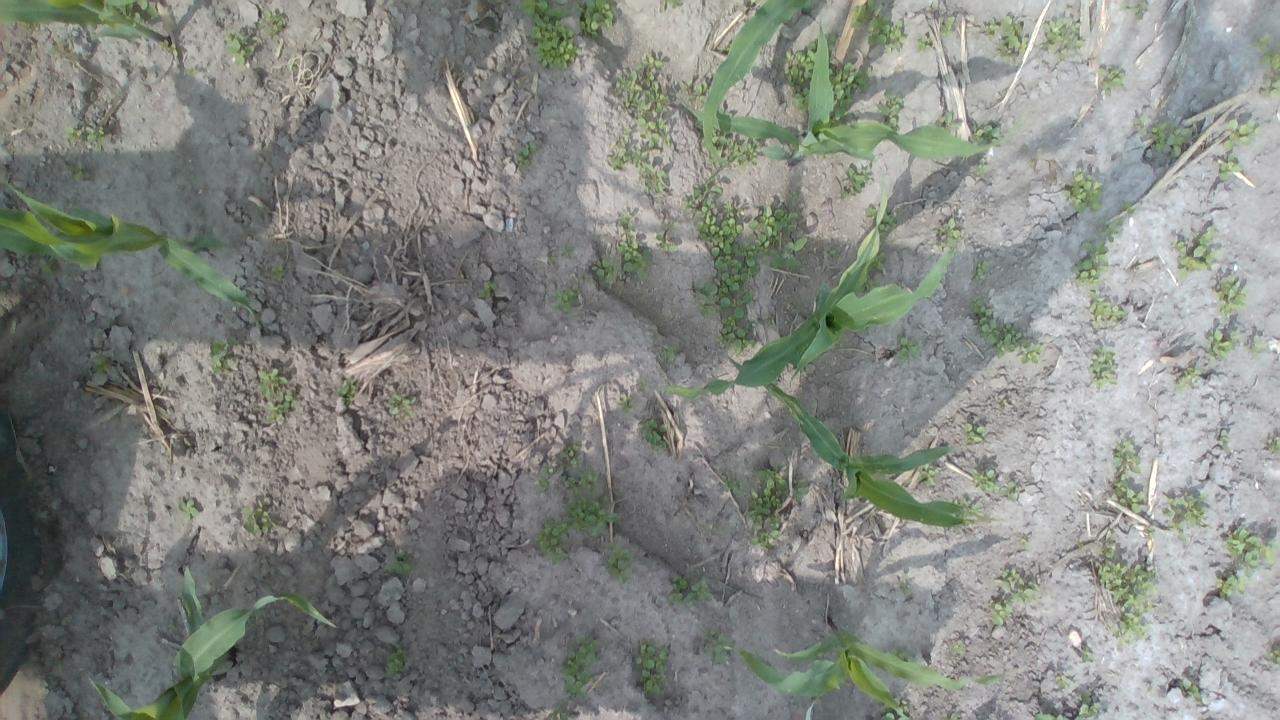Maize: (668, 222, 957, 398), (728, 353, 988, 529), (690, 28, 990, 164), (0, 176, 265, 324), (89, 569, 337, 720), (740, 616, 1004, 720), (704, 0, 812, 165), (0, 0, 170, 45)
Weeds: (607, 50, 672, 192), (695, 200, 759, 320), (534, 496, 622, 566), (1094, 559, 1156, 644), (512, 0, 584, 71), (746, 464, 789, 550), (752, 205, 808, 271), (972, 294, 1023, 358), (828, 62, 872, 125), (561, 636, 601, 704), (784, 38, 819, 114), (853, 0, 907, 49), (1224, 526, 1279, 574), (1163, 492, 1211, 546), (1110, 438, 1144, 514), (1133, 115, 1193, 158), (616, 210, 652, 280), (1173, 224, 1216, 282), (634, 637, 671, 702), (705, 126, 758, 168), (719, 307, 760, 360), (256, 366, 294, 422), (1070, 239, 1110, 292), (992, 566, 1041, 603), (1041, 18, 1084, 60), (1064, 168, 1104, 212), (576, 0, 618, 41), (681, 170, 722, 209), (997, 14, 1028, 64), (1216, 276, 1248, 320), (240, 498, 276, 536), (64, 126, 112, 154), (702, 628, 735, 668), (672, 574, 712, 607), (1223, 118, 1264, 150), (672, 77, 708, 112), (1090, 296, 1126, 330), (558, 469, 600, 498), (1088, 347, 1118, 387), (227, 29, 260, 65), (606, 542, 634, 584), (209, 335, 240, 372), (655, 333, 690, 364), (591, 254, 621, 288), (1097, 64, 1127, 98), (878, 90, 902, 132), (1208, 329, 1240, 360), (638, 418, 670, 449), (120, 0, 158, 26), (515, 141, 543, 176), (382, 548, 414, 578), (931, 218, 960, 250), (1216, 573, 1249, 601), (952, 498, 985, 526), (550, 287, 580, 316), (654, 222, 680, 255), (846, 164, 875, 193), (973, 123, 1009, 146), (894, 336, 920, 367), (256, 10, 286, 36), (383, 647, 408, 678), (1174, 366, 1200, 394), (1216, 154, 1242, 182), (971, 467, 1000, 492), (1016, 340, 1046, 364), (1074, 693, 1100, 720), (1096, 216, 1122, 243), (1094, 529, 1116, 560), (334, 375, 359, 402), (174, 496, 200, 521), (990, 600, 1014, 626), (877, 212, 898, 241), (962, 422, 988, 445), (883, 698, 909, 720), (916, 460, 938, 486), (389, 394, 412, 418), (791, 478, 812, 504), (1120, 0, 1148, 19), (1179, 677, 1201, 701), (1000, 479, 1024, 501), (560, 443, 584, 465), (65, 162, 90, 182), (886, 648, 917, 664), (94, 351, 114, 375), (942, 110, 962, 131), (40, 253, 59, 274), (868, 252, 887, 273), (1032, 709, 1068, 720), (1248, 338, 1266, 360), (894, 574, 914, 593), (1263, 49, 1280, 71), (546, 707, 574, 720), (1262, 79, 1280, 99), (724, 479, 745, 496), (158, 40, 180, 56), (44, 41, 64, 58), (618, 394, 634, 415), (658, 0, 682, 14), (478, 280, 496, 298), (1254, 33, 1272, 51), (822, 31, 839, 50), (941, 15, 955, 37), (982, 15, 997, 34), (816, 641, 833, 657), (975, 262, 990, 280), (1220, 429, 1232, 451), (270, 264, 286, 280), (916, 34, 932, 50), (534, 479, 549, 496), (1268, 436, 1280, 456), (951, 640, 966, 656), (1055, 674, 1071, 689), (542, 463, 558, 478), (819, 245, 838, 257), (1017, 534, 1031, 550), (1120, 202, 1136, 216), (1268, 647, 1280, 665), (974, 163, 990, 176), (863, 206, 878, 219), (1080, 646, 1092, 662), (166, 618, 178, 634), (718, 43, 732, 54), (862, 276, 873, 290), (943, 711, 960, 720), (639, 381, 650, 394), (182, 66, 196, 76), (1074, 537, 1084, 549), (561, 244, 575, 252), (839, 190, 850, 200), (1144, 526, 1154, 536), (694, 120, 703, 128), (792, 192, 801, 199)
